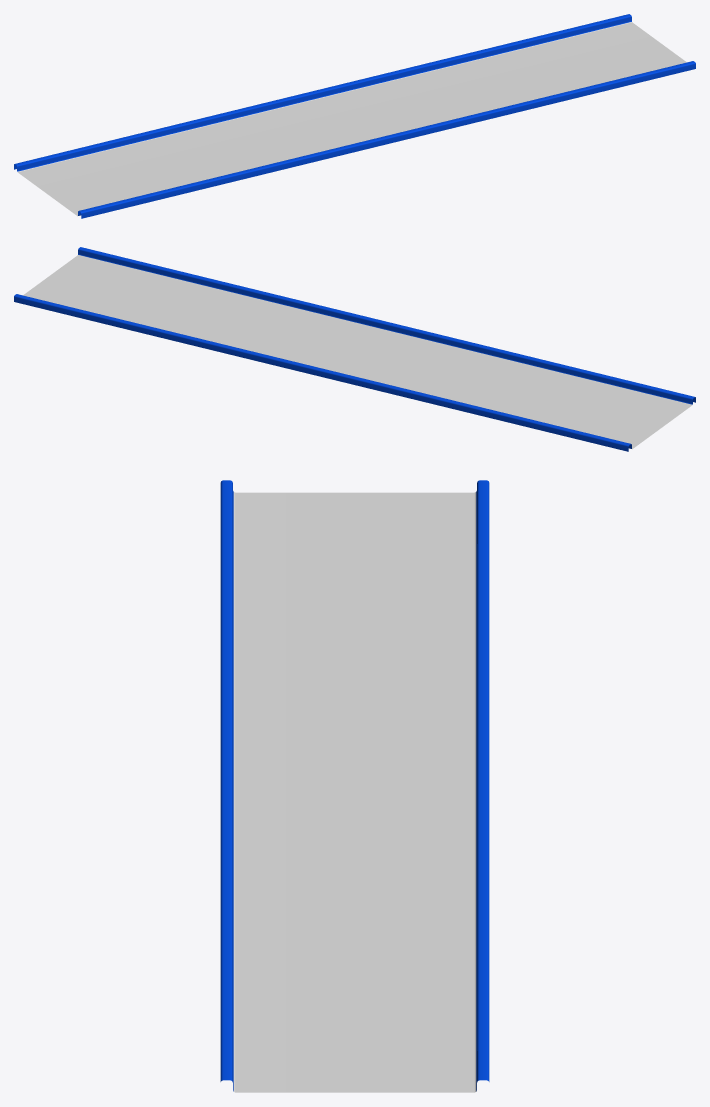
The model's file is Duz.fbx.
The picture shows the model from 3 angles, top to bottom: view 1: azimuth 30°, elevation 25°; view 2: azimuth 150°, elevation 25°; view 3: azimuth 270°, elevation 25°; orthographic projection. The views are drawn at different scales.
Visible parts, largest first — view 1: Duz; view 2: Duz; view 3: Duz.
Part boxes in pixels (x1,y1,x2,y2): Duz: (14,14,695,218); Duz: (14,247,695,451); Duz: (220,480,489,1092).
Bounding box in the file's own units: 1056 × 10.13 × 200.
